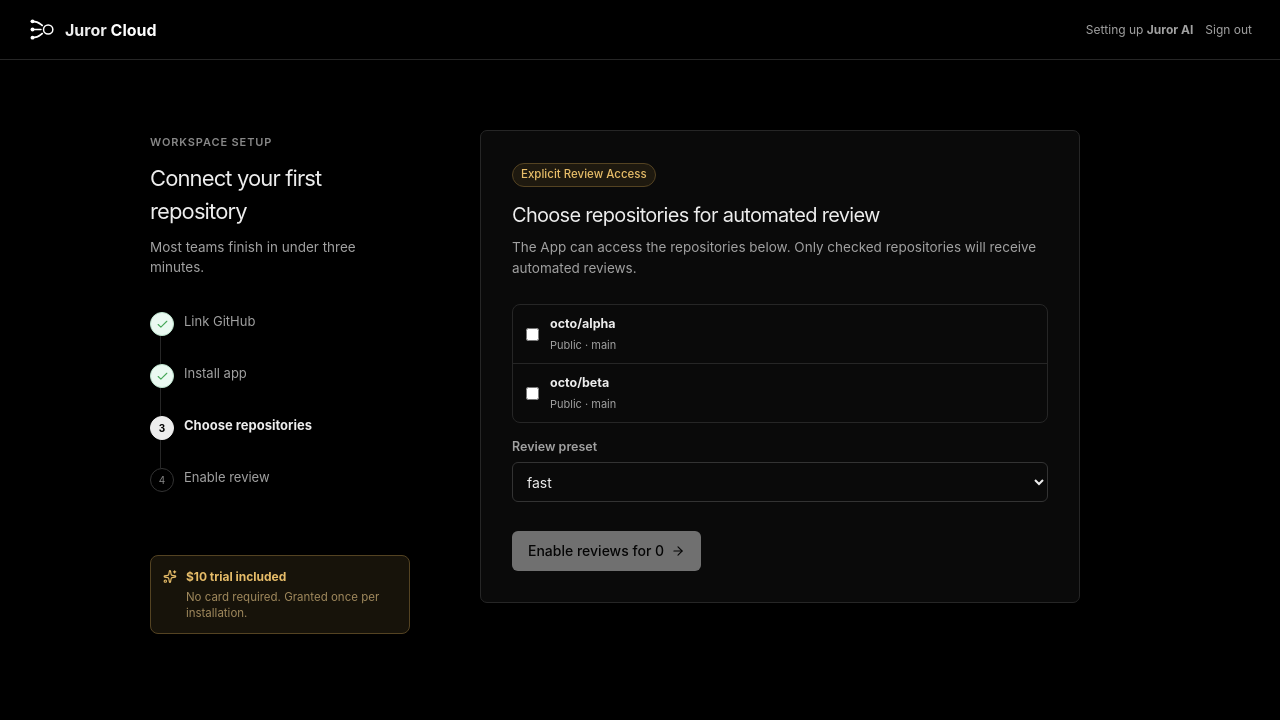
Test: new-user hosted review onboarding › reconciles repository choices after a partially successful save
Click the checkbox labelled "octo/alpha Public · main" at (532,334), box [524,328,541,341]
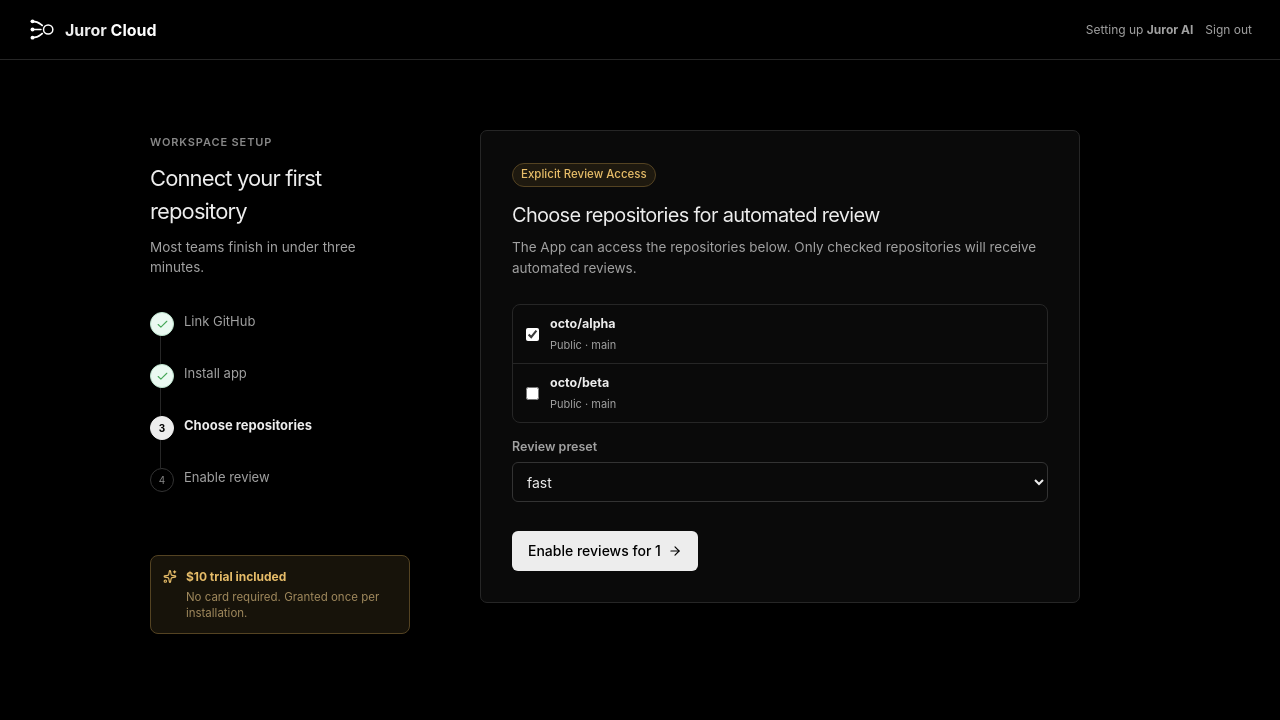
Click the checkbox labelled "octo/beta Public · main" at (532,393), box [524,387,541,400]
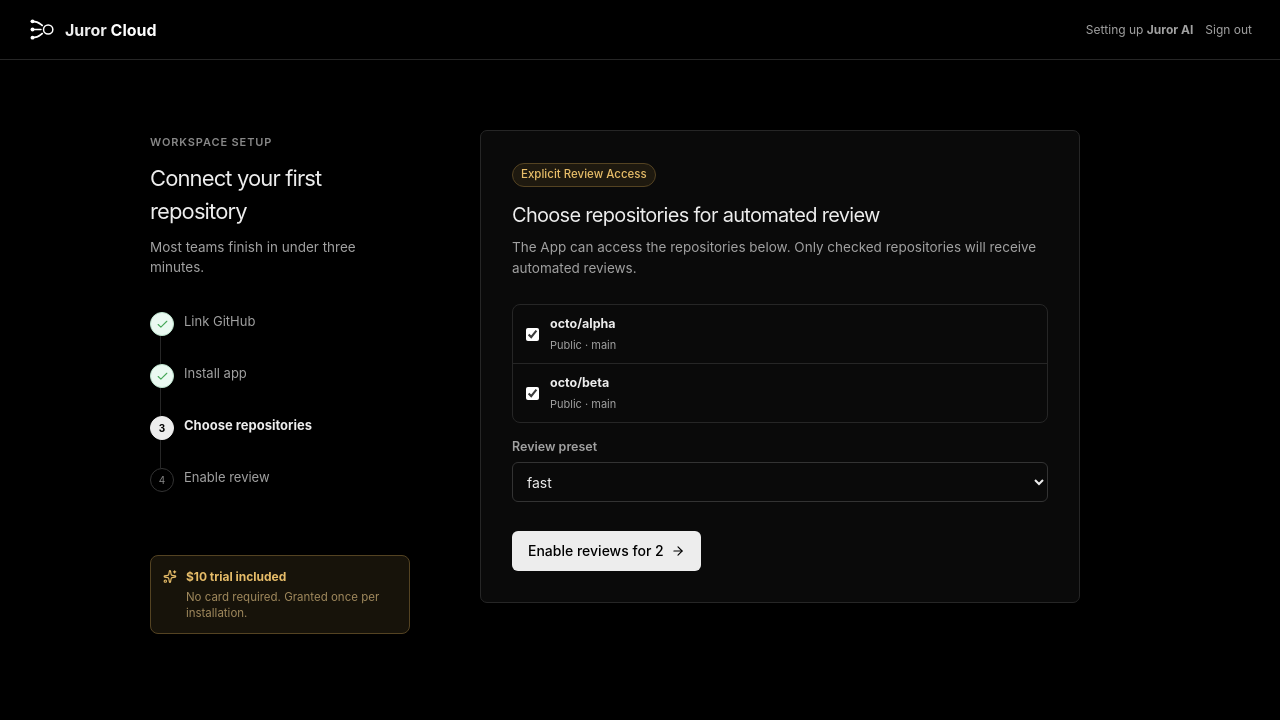
Click the button "Enable reviews for 2" at (606,551), box [512,531,701,571]
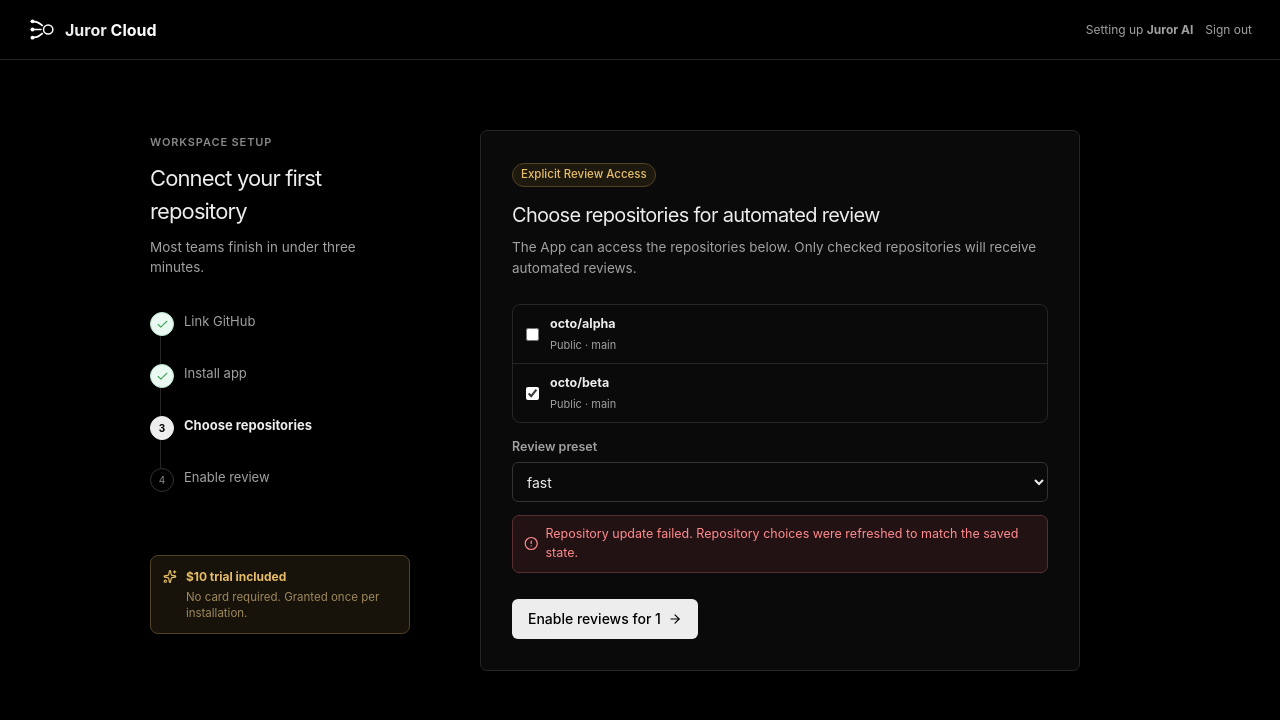
Expected: the checkbox labelled "octo/alpha Public · main" is not checked, [524,328,541,341]
Expected: the checkbox labelled "octo/beta Public · main" is checked, [524,387,541,400]
Expected: the text "choices were refreshed to match the saved state" is shown, [546,526,1018,560]
